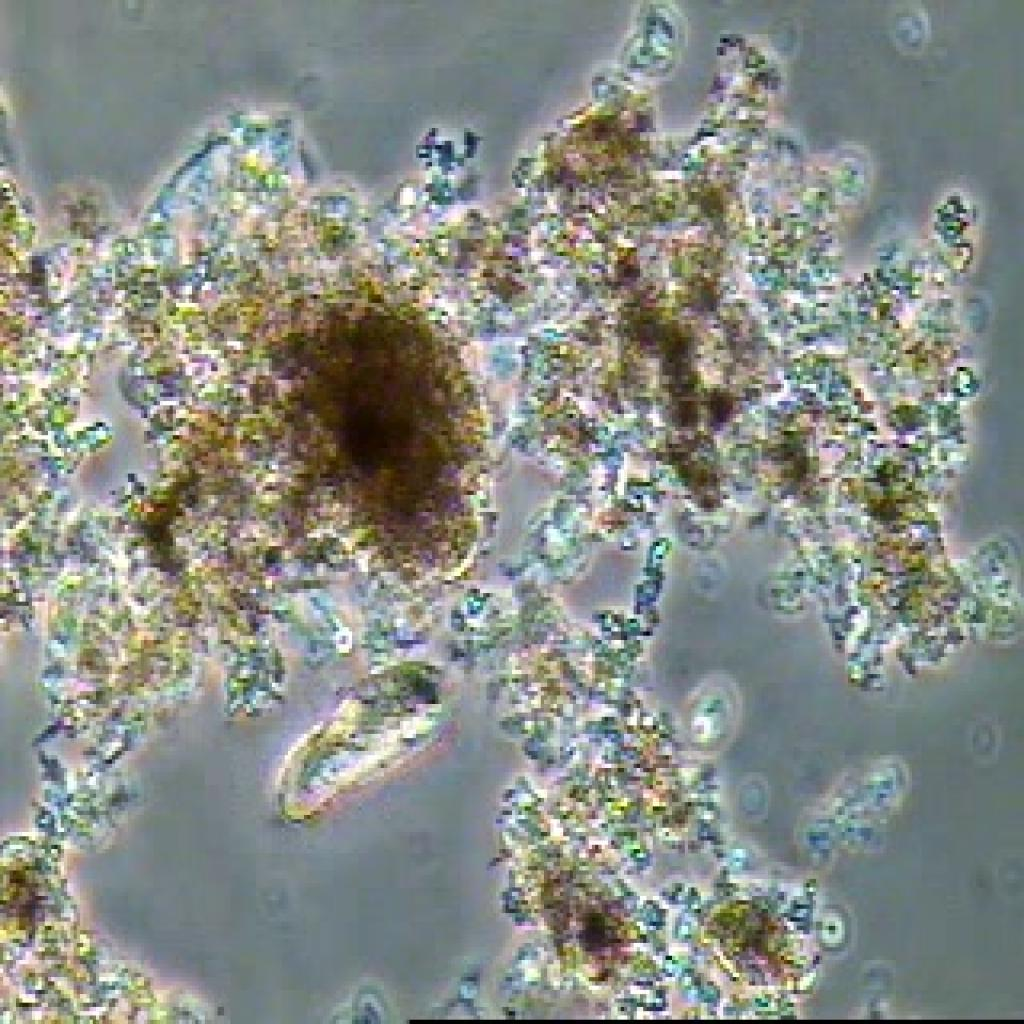Paramecium: (264, 662, 459, 824)
